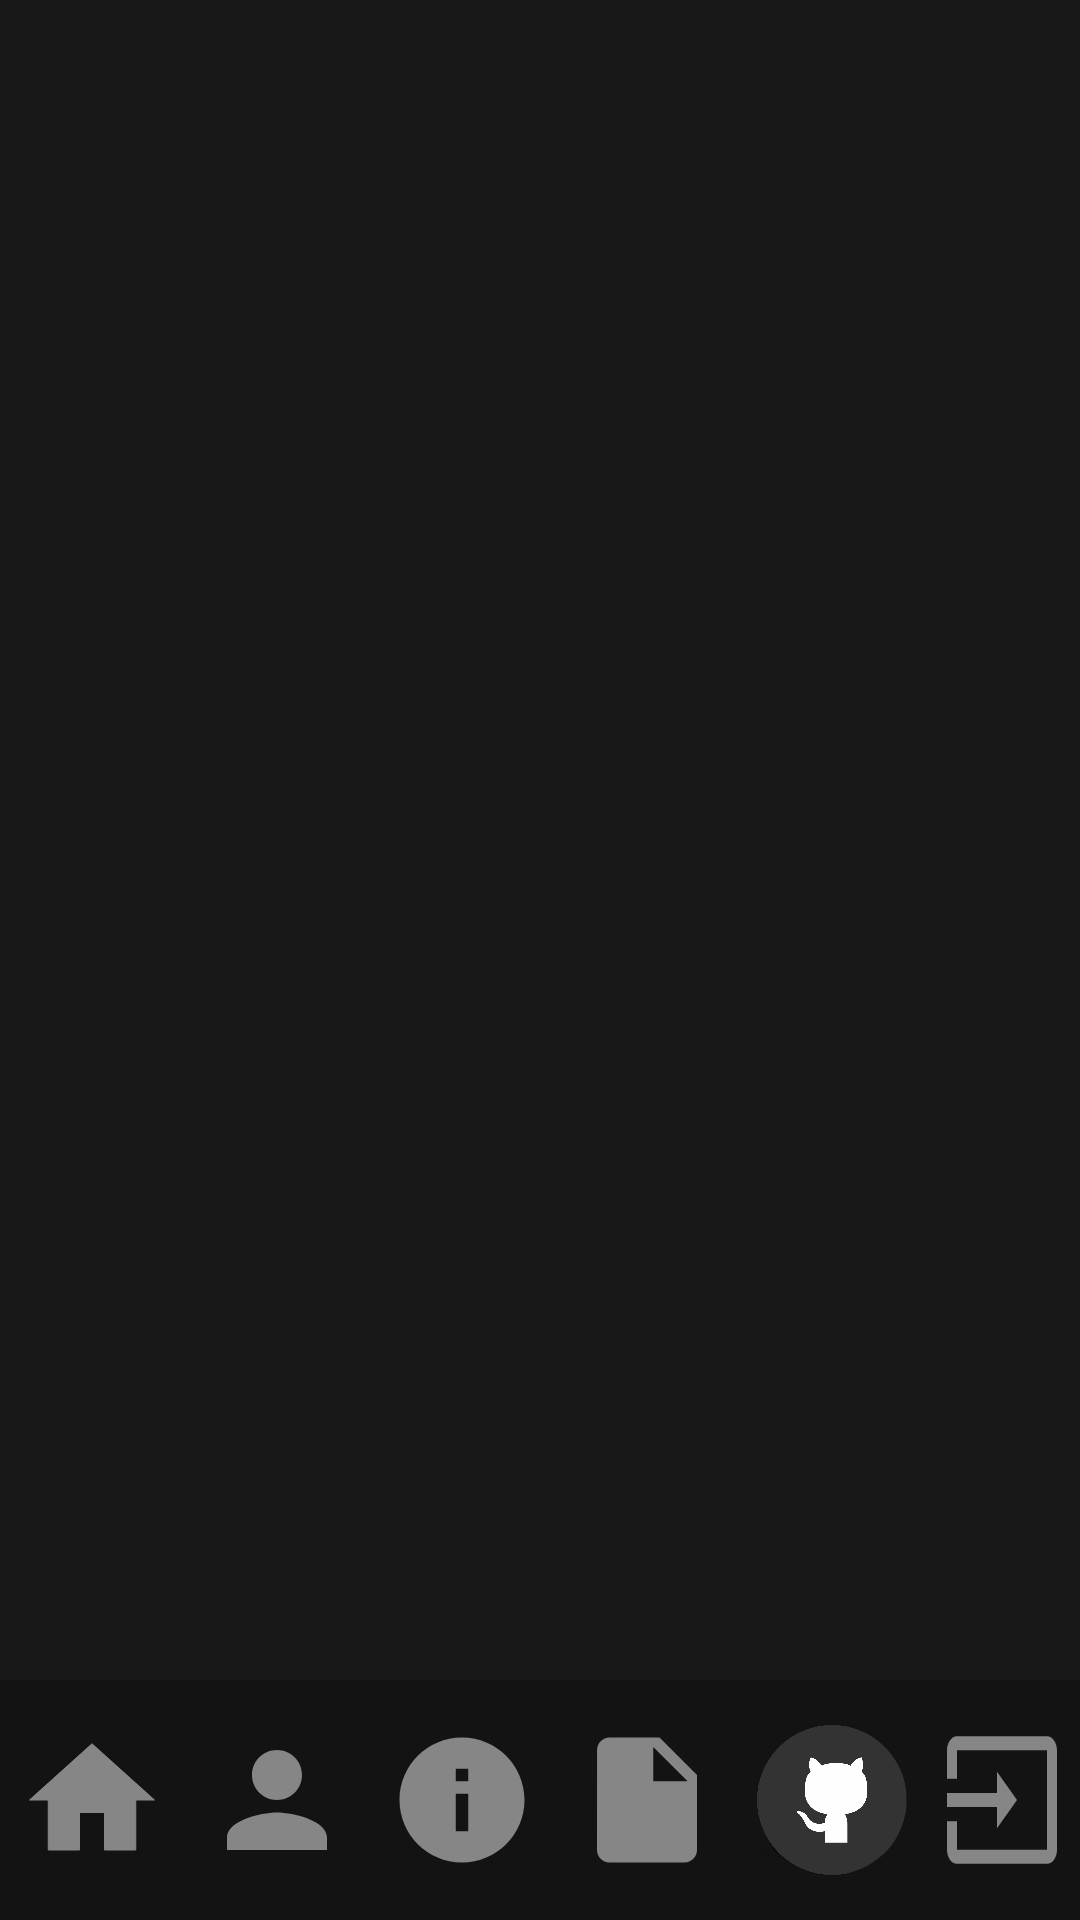

Point at icon controls on the screen. Image size 1080 x 1920, points as [x,y].
about prog: [462,1800]
exit: [1002,1800]
instruction: [647,1800]
user: [277,1800]
